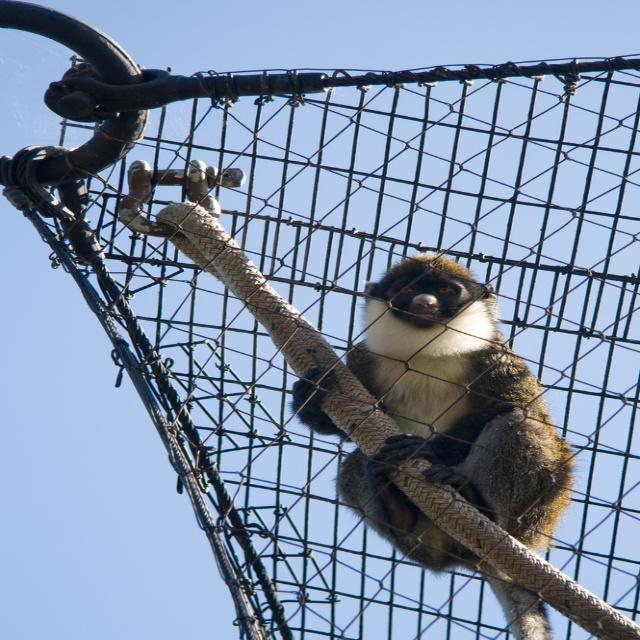Monkey: (295, 254, 573, 640)
